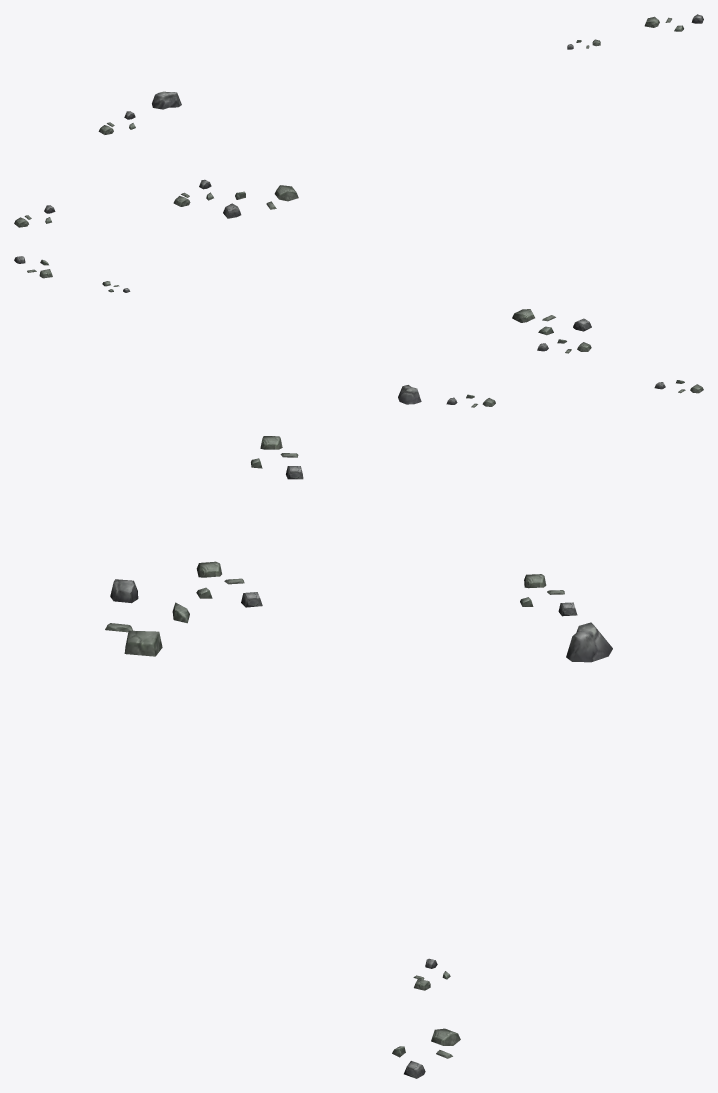
The model's file is Area_10_38.fbx.
The picture shows the model from 3 angles, top to bottom: view 1: azimuth 30°, elevation 25°; view 2: azimuth 150°, elevation 25°; view 3: azimuth 270°, elevation 25°; orthographic projection. The views are drawn at different scales.
Parts seen in each view (by area): view 1: Area_10_38; view 2: Area_10_38; view 3: Area_10_38.
Part boxes in pixels (bbox=[...]): Area_10_38: bbox=[14, 14, 703, 227]; Area_10_38: bbox=[14, 256, 703, 407]; Area_10_38: bbox=[105, 436, 612, 1078].
Bounding box in the file's own units: 6029 × 95.78 × 2038.
